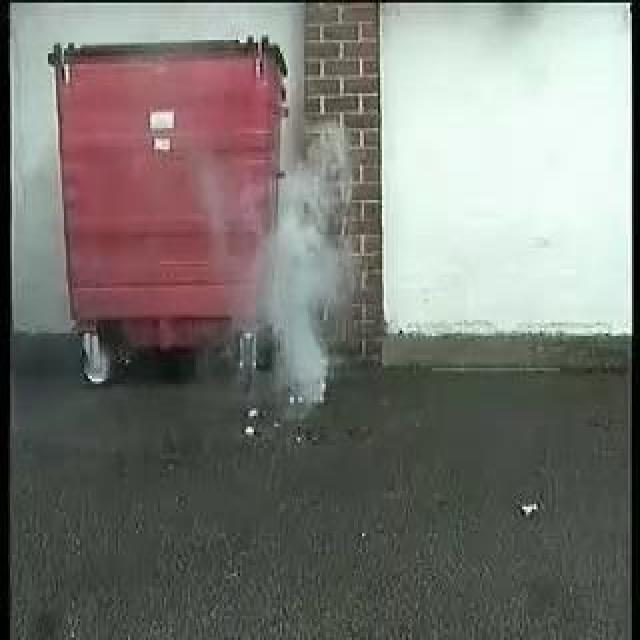Smoke: (257, 123, 355, 397)
